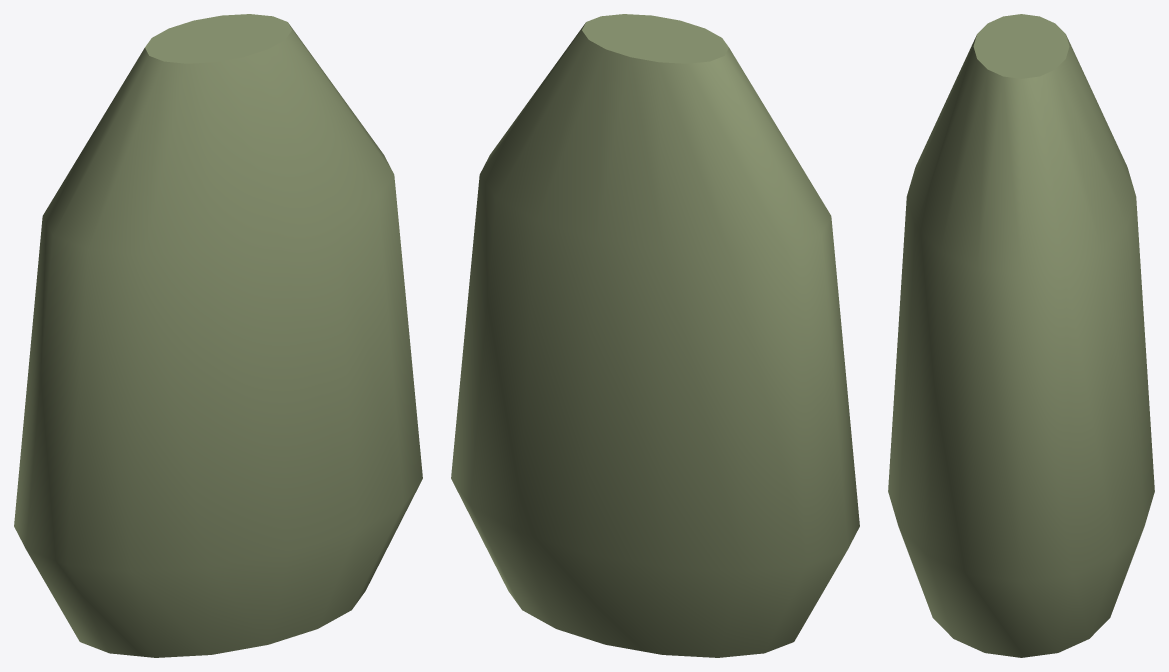
File: scavengers-loot-library-charcoal-sack-1881aaf1__2627.glb
3 views of the same model, side by side, from view 1: azimuth 30°, elevation 25°; view 2: azimuth 150°, elevation 25°; view 3: azimuth 270°, elevation 25° (orthographic). The views are drawn at different scales.
Visible parts, largest first — view 1: charcoal-sack; view 2: charcoal-sack; view 3: charcoal-sack.
Boxes of the visible parts, box(x1,y1,x2,y2) form: charcoal-sack: box(14, 14, 422, 657); charcoal-sack: box(451, 14, 859, 657); charcoal-sack: box(888, 14, 1154, 657).
Size of the model in its own units: 0.32 by 0.46 by 0.2.
